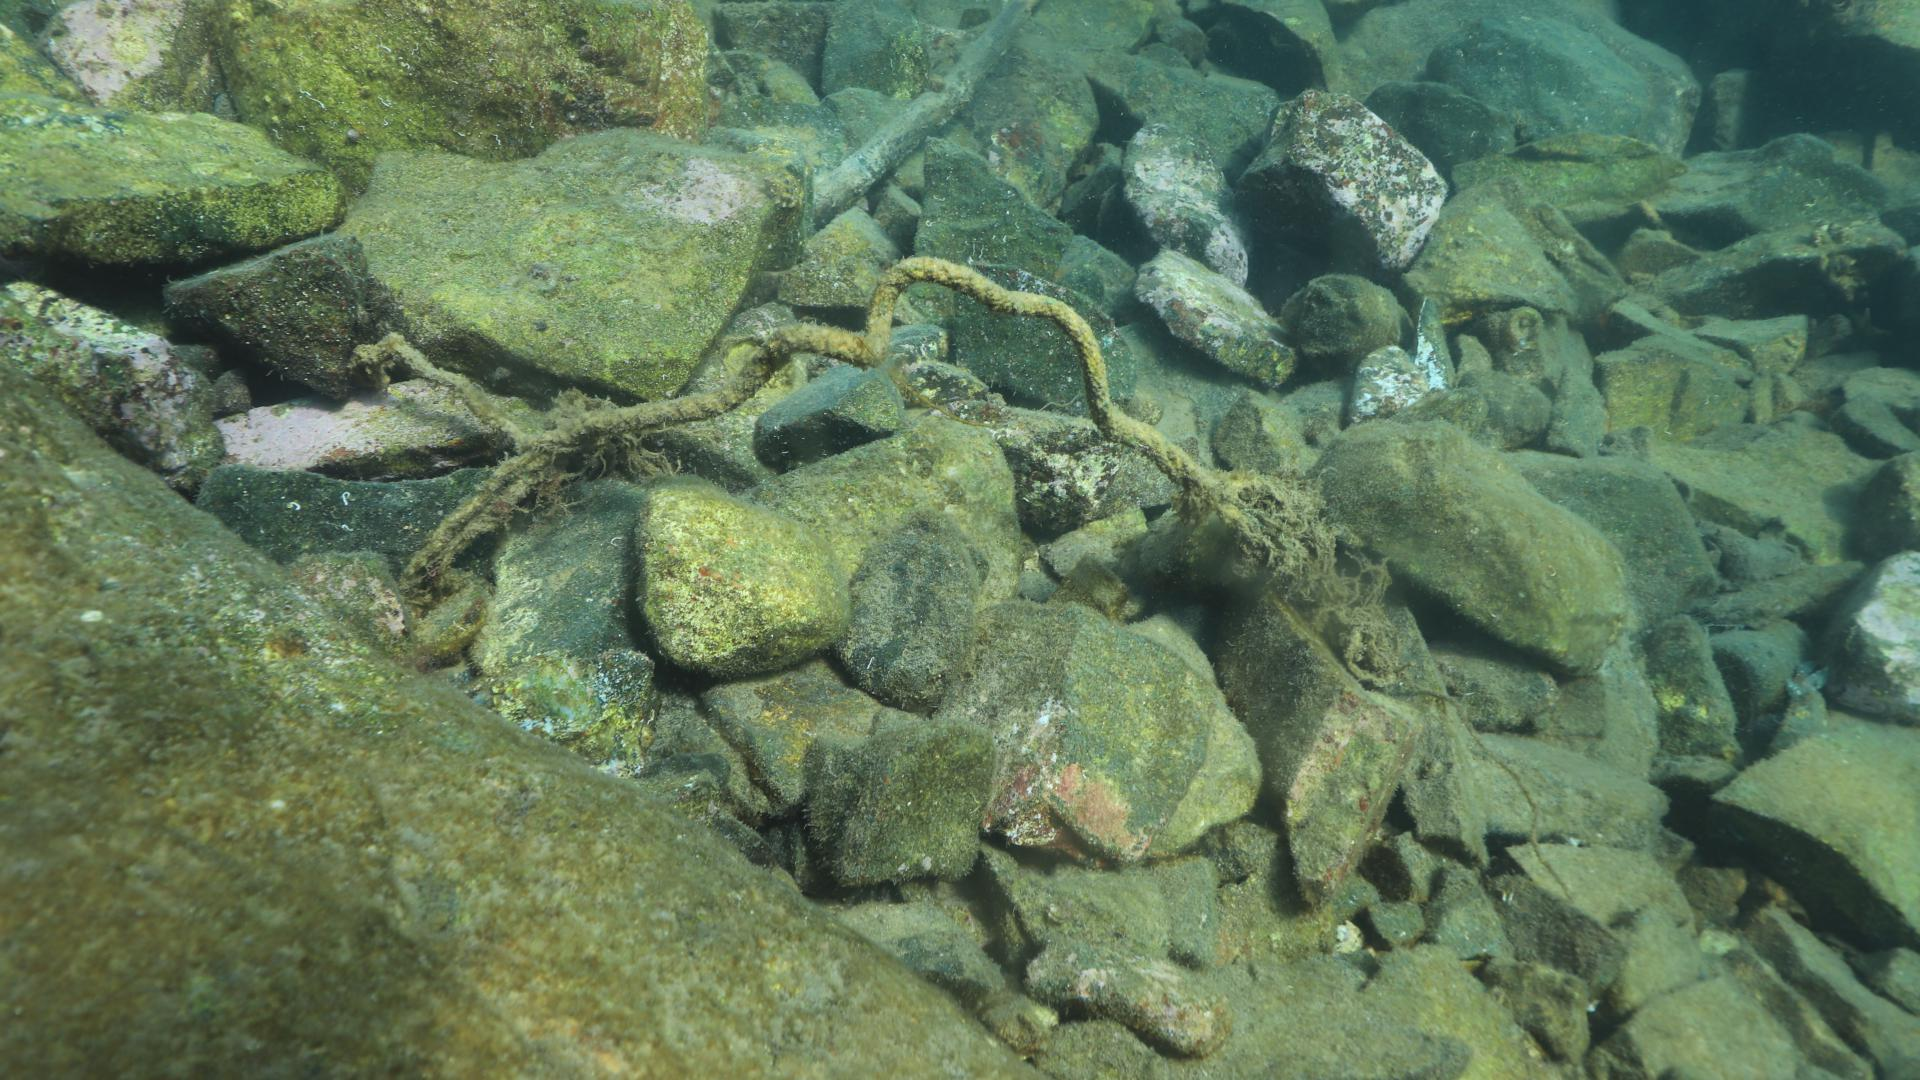rope: (351, 255, 1218, 580)
